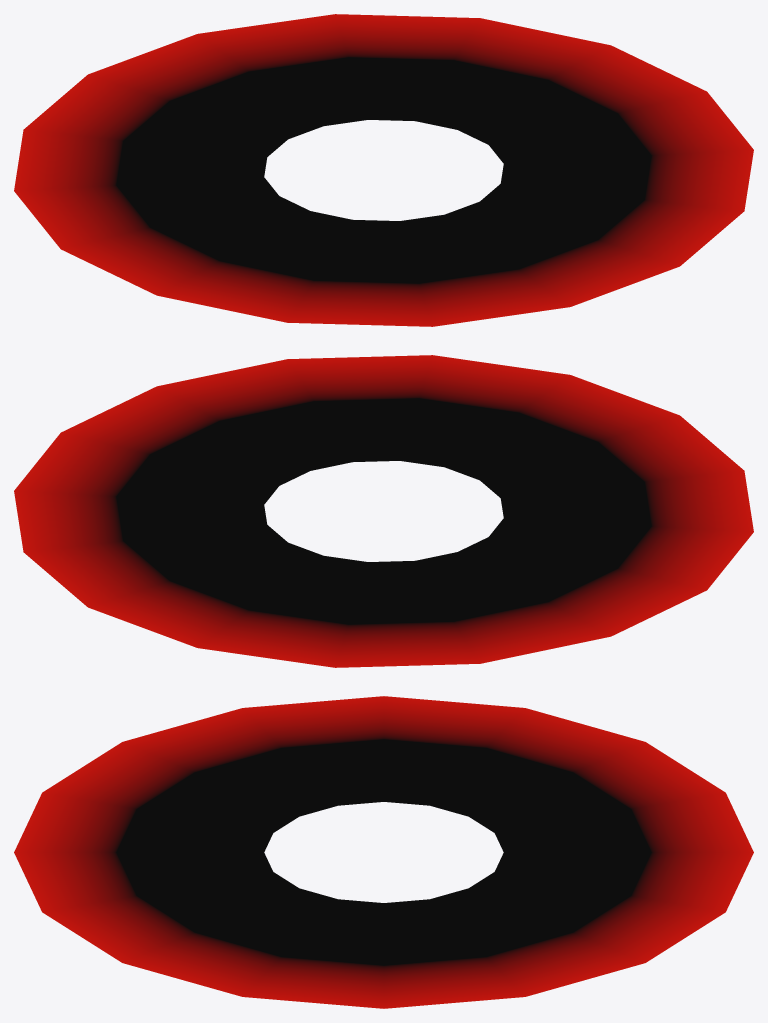
Rendered from SM_FX_WaterWave_01.fbx.
The picture shows the model from 3 angles, top to bottom: view 1: azimuth 30°, elevation 25°; view 2: azimuth 150°, elevation 25°; view 3: azimuth 270°, elevation 25°; orthographic projection.
Visible parts, largest first — view 1: SM_FX_WaterWave_01; view 2: SM_FX_WaterWave_01; view 3: SM_FX_WaterWave_01.
Boxes of the visible parts, <box> form: SM_FX_WaterWave_01: <box>14,14,753,326</box>; SM_FX_WaterWave_01: <box>14,355,753,667</box>; SM_FX_WaterWave_01: <box>14,696,753,1008</box>.
Size of the model in its own units: 2 by 0 by 2.
